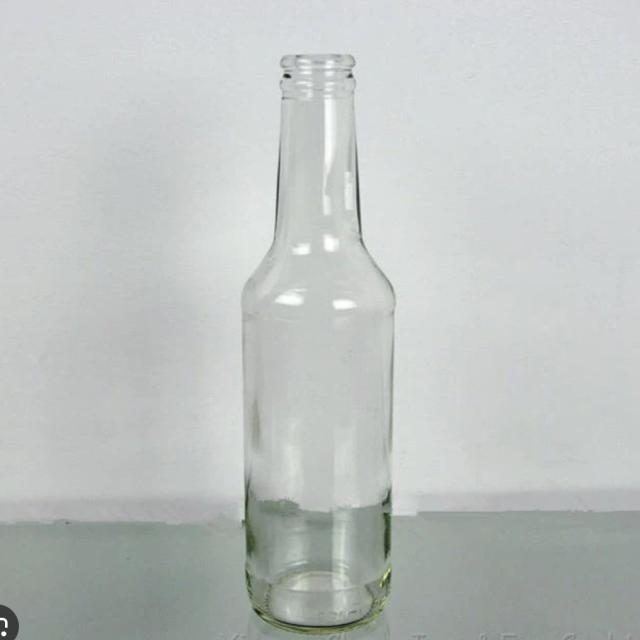recyclable: (223, 42, 418, 639)
